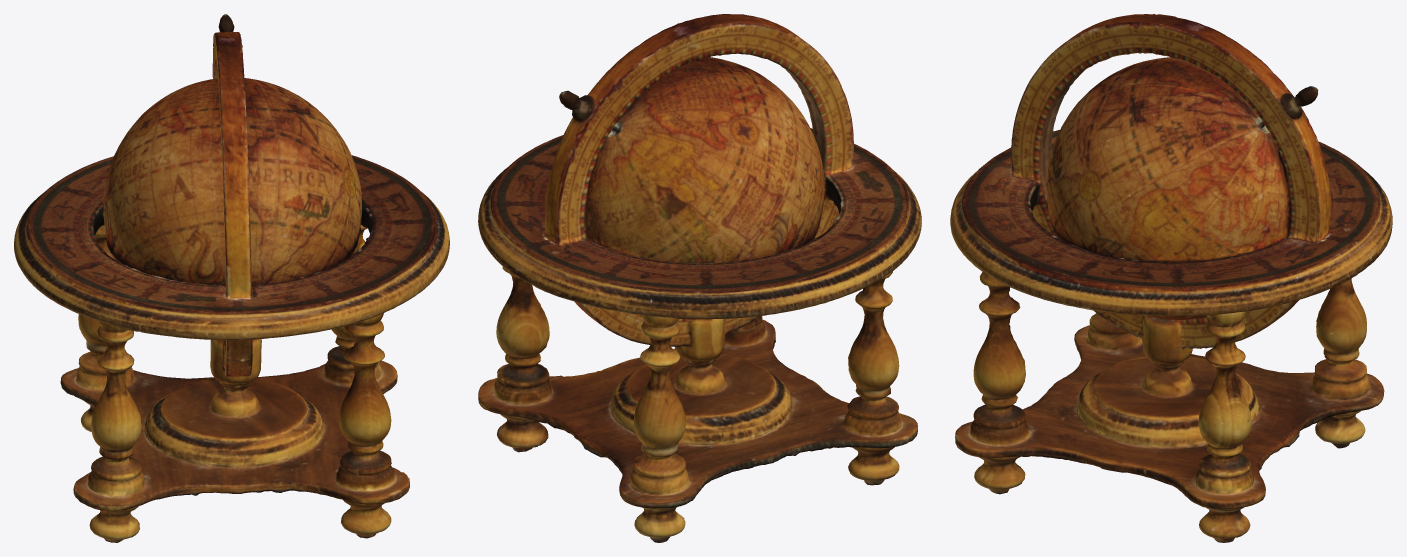
The model's file is Antique wood global.glb.
3 renders of one model, left to right at view 1: azimuth 30°, elevation 25°; view 2: azimuth 150°, elevation 25°; view 3: azimuth 270°, elevation 25°, orthographic.
Visible parts, largest first — view 1: Antique Wood Globe; view 2: Antique Wood Globe; view 3: Antique Wood Globe.
Boxes of the visible parts, left/top/right/bottom form: Antique Wood Globe: left=14, top=14, right=449, bottom=542; Antique Wood Globe: left=478, top=14, right=921, bottom=542; Antique Wood Globe: left=950, top=14, right=1392, bottom=542.
Bounding box in the file's own units: 0.7269 × 0.8059 × 0.7259.
1 material, 1 textured.
